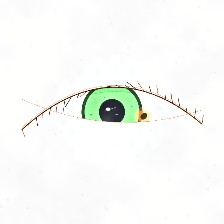foreign_body_visible: (125, 101, 163, 131)
